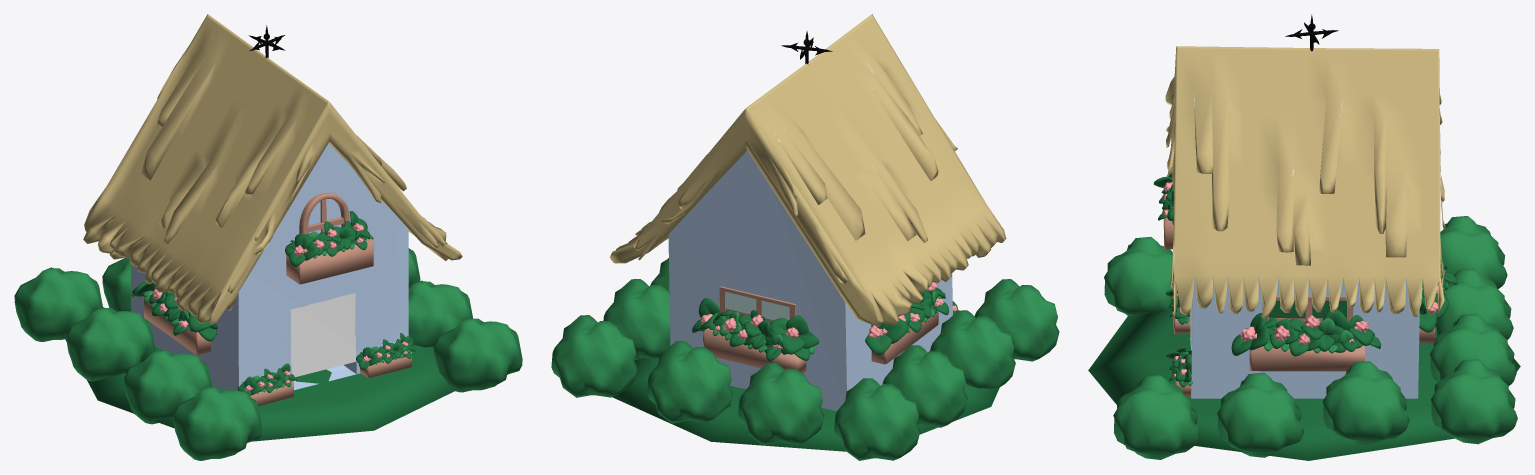
The model's file is house.glb.
3 renders of one model, left to right at view 1: azimuth 30°, elevation 25°; view 2: azimuth 150°, elevation 25°; view 3: azimuth 270°, elevation 25°, orthographic. The views are drawn at different scales.
Bounding box in the file's own units: 3.38 × 3.21 × 3.39.
Materials: 26 (20 with a texture image).
